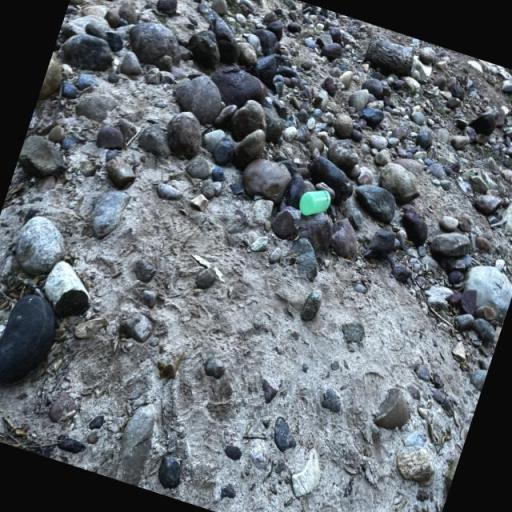bottle: (296, 184, 334, 222)
